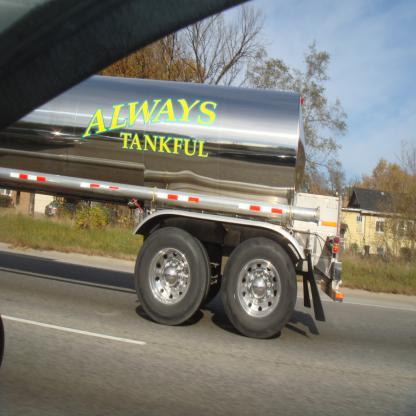Truck: (0, 75, 344, 340)
